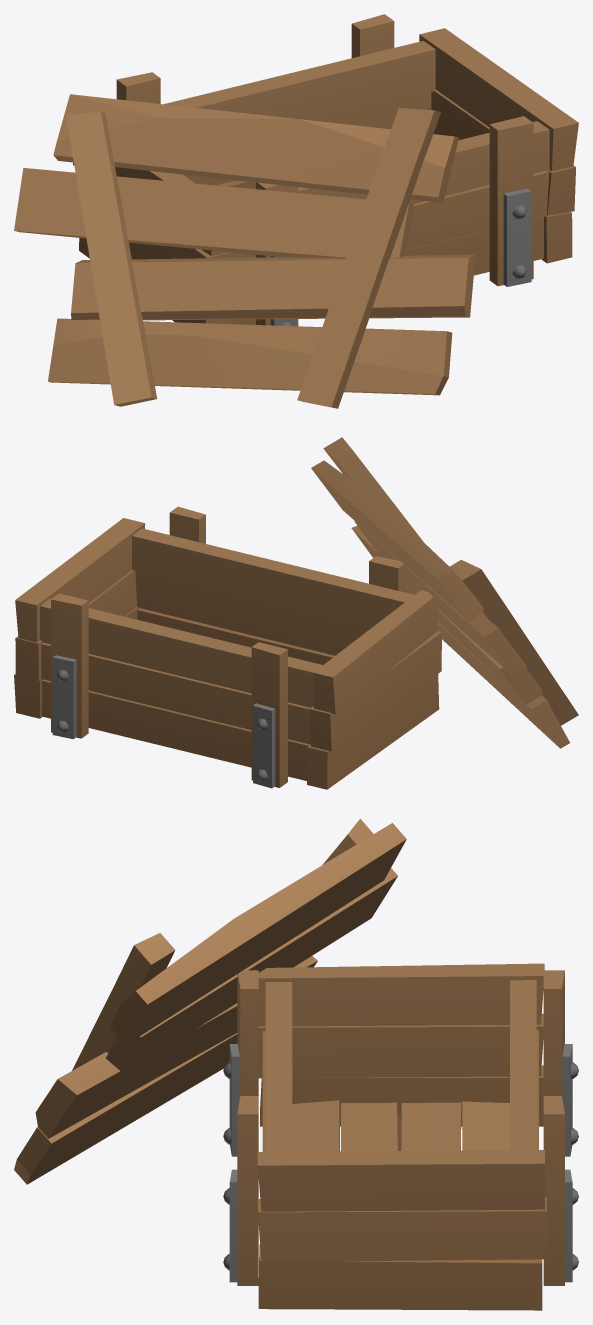
File: Box_Wood_Open_D.fbx
The picture shows the model from 3 angles, top to bottom: view 1: azimuth 30°, elevation 25°; view 2: azimuth 150°, elevation 25°; view 3: azimuth 270°, elevation 25°; orthographic projection. The views are drawn at different scales.
Visible parts, largest first — view 1: Box_Wood_Open_D; view 2: Box_Wood_Open_D; view 3: Box_Wood_Open_D.
Part boxes in pixels (x1,y1,x2,y2): Box_Wood_Open_D: (14,14,578,408); Box_Wood_Open_D: (14,437,578,789); Box_Wood_Open_D: (14,818,578,1310).
Size of the model in its own units: 181 by 81.42 by 152.
